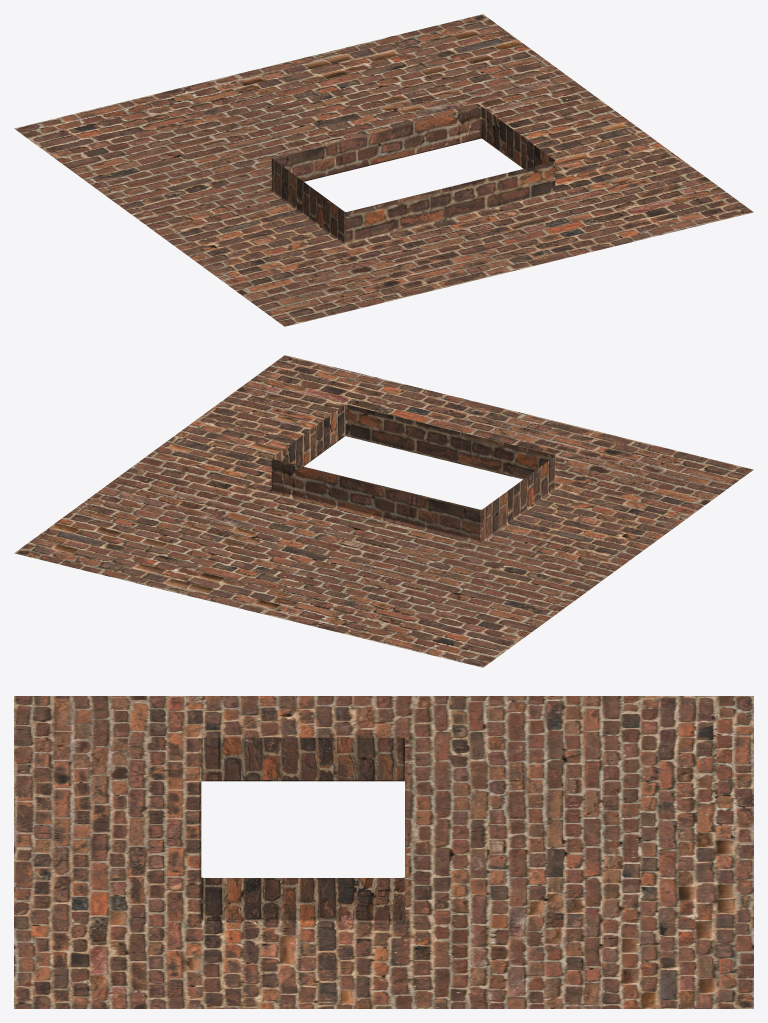
File: wall_window_centered_medium_03.gltf
The picture shows the model from 3 angles, top to bottom: view 1: azimuth 30°, elevation 25°; view 2: azimuth 150°, elevation 25°; view 3: azimuth 270°, elevation 25°; orthographic projection. The views are drawn at different scales.
Parts seen in each view (by area): view 1: wall_window_centered_medium_03; view 2: wall_window_centered_medium_03; view 3: wall_window_centered_medium_03.
Boxes of the visible parts, left/top/right/bottom form: wall_window_centered_medium_03: left=14, top=14, right=753, bottom=326; wall_window_centered_medium_03: left=14, top=355, right=753, bottom=667; wall_window_centered_medium_03: left=14, top=696, right=753, bottom=1008.
Size of the model in its own units: 3 by 0.2 by 3.
1 material, 1 textured.
